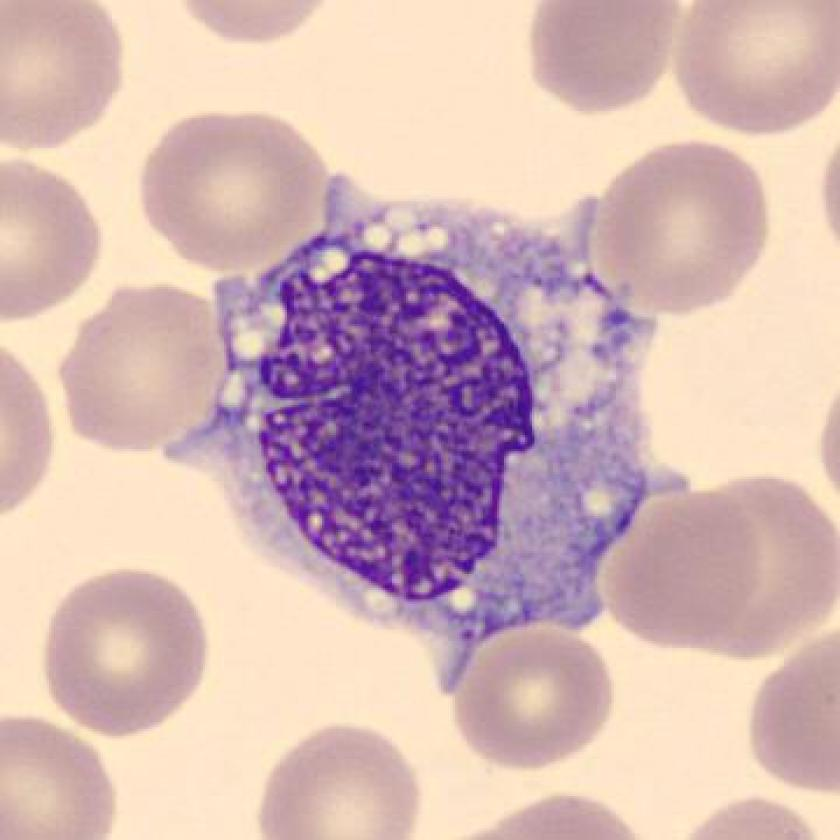monocyte: (155, 154, 706, 709)
